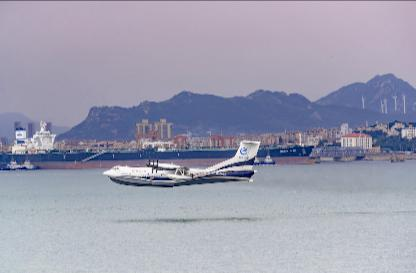AG600: (102, 139, 260, 186)
